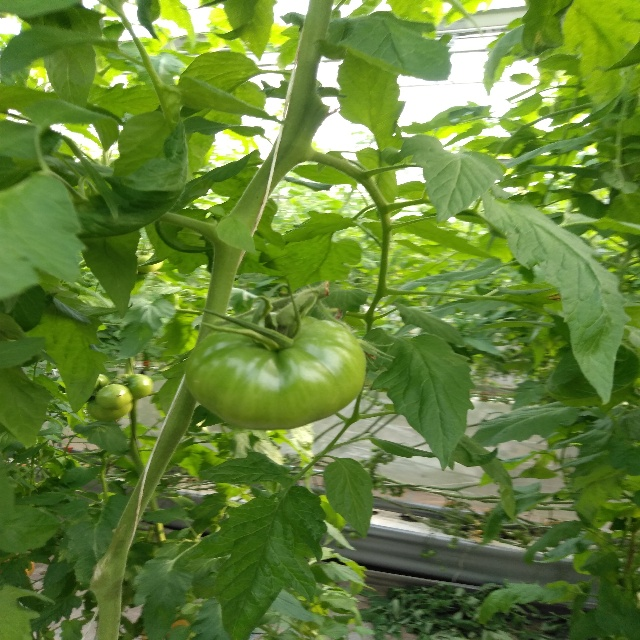b_green: (185, 312, 367, 431), (86, 395, 132, 421), (97, 382, 133, 411), (119, 374, 154, 399)
